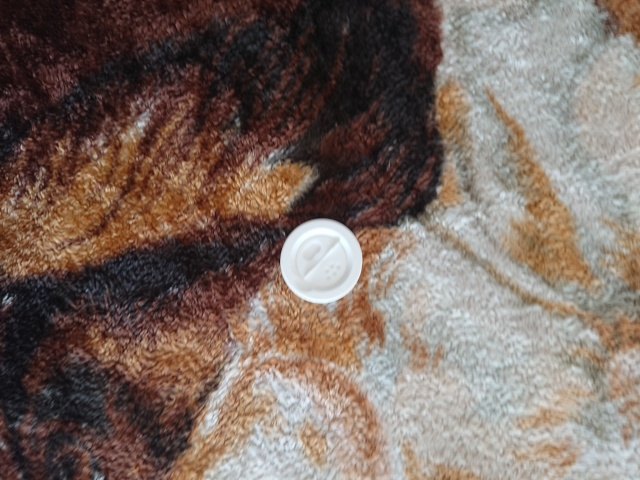Solana Pag Fine Sea Salt 250g: (277, 216, 365, 306)
